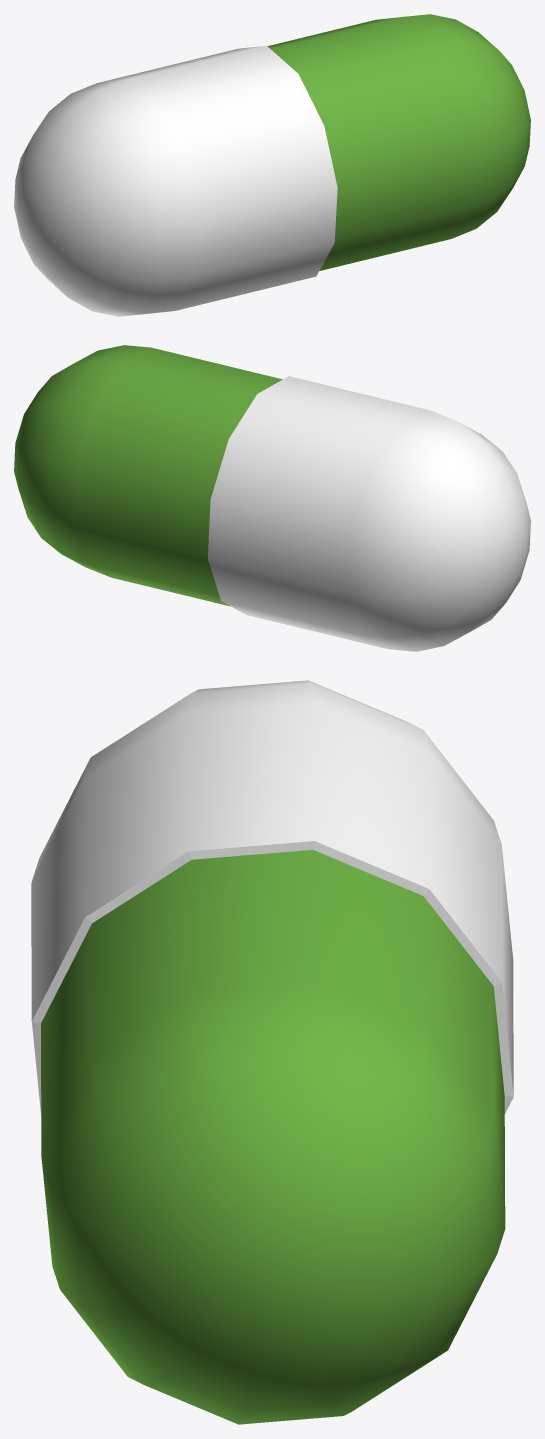
File: Pill 2.fbx
3 renders of one model, top to bottom at view 1: azimuth 30°, elevation 25°; view 2: azimuth 150°, elevation 25°; view 3: azimuth 270°, elevation 25°, orthographic. The views are drawn at different scales.
Parts seen in each view (by area): view 1: pill 2; view 2: pill 2; view 3: pill 2.
Part boxes in pixels (x1,y1,x2,y2): pill 2: (14,14,530,316); pill 2: (14,345,530,651); pill 2: (31,680,513,1424).
Bounding box in the file's own units: 2.13 × 0.9149 × 0.9153.
Materials: 1 (1 with a texture image).
